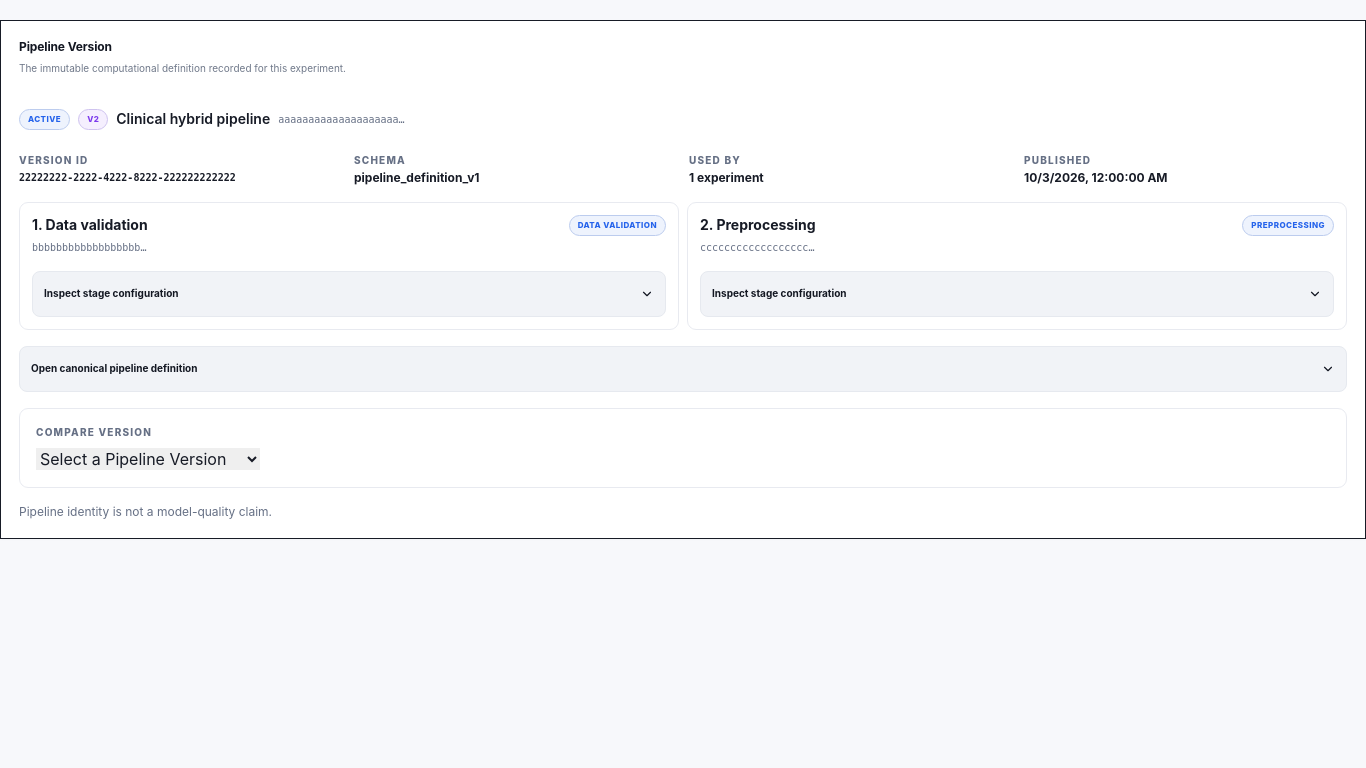
Scenario: Pipeline Version Registry panel › renders structured neutral version differences
The image size is (1366, 768).
Select "Clinical hybrid pipeline · v3" in the dropdown showing "Select a Pipeline Version": (148,458) x1=36 y1=448 x2=260 y2=470
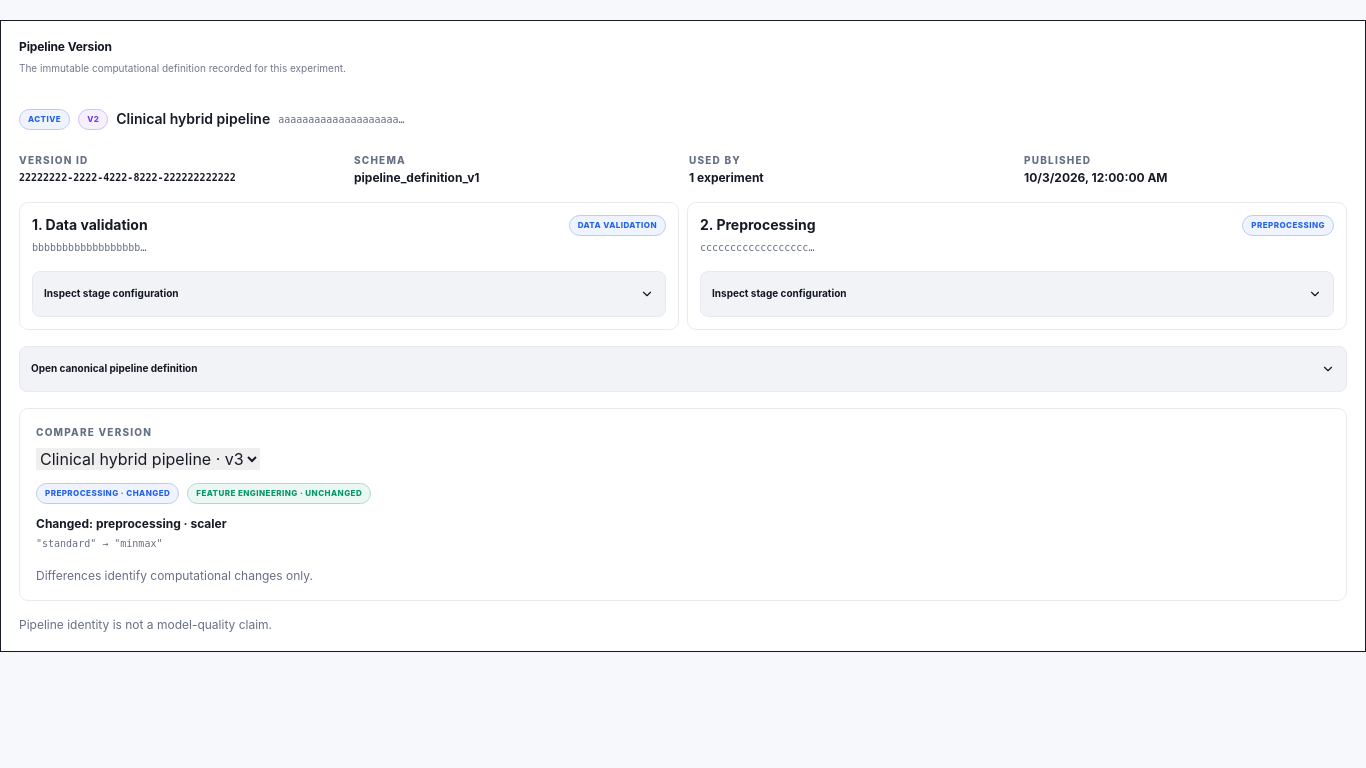
Check: the text "preprocessing · Changed" is shown, box x1=36 y1=482 x2=179 y2=504
Check: the text "feature engineering · Unchanged" is shown, box x1=187 y1=482 x2=371 y2=504
Check: the text "Changed: preprocessing · scaler" is shown, box x1=36 y1=516 x2=227 y2=530
